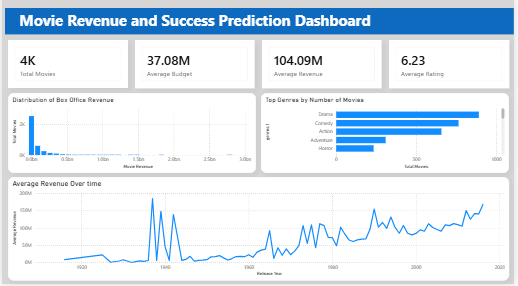

The dashboard page shown, as its layout file describes it:
{"tool":"powerbi","page":{"name":"Overview","canvas":[1280,720],"ordinal":0},"visuals":[{"type":"cardVisual","fields":{"Data":["tmdb_processed.Total Movies"]},"box":[15,110,300,120],"z":2000},{"type":"cardVisual","fields":{"Data":["tmdb_processed.Average Rating"]},"box":[967.6,109.2,300.7,120.9],"z":3000},{"type":"cardVisual","fields":{"Data":["tmdb_processed.Average Budget"]},"box":[332.6,109.2,299,120.9],"z":4000},{"type":"cardVisual","fields":{"Data":["tmdb_processed.Average Revenue"]},"box":[650.1,109.2,299,120.9],"z":5000},{"type":"textbox","box":[23,503,493,87],"z":6000},{"type":"clusteredColumnChart","title":"Distribution of Box Office Revenue ","fields":{"Category":["tmdb_processed.revenue (bins)"],"Y":["tmdb_processed.Total Movies"]},"box":[14.9,242.5,620,199.9],"z":7000},{"type":"clusteredBarChart","title":"Top Genres by Number of Movies","fields":{"Category":["tmdb_processed.genres.1"],"Y":["tmdb_processed.Total Movies"]},"box":[647.7,241.9,619.8,199.9],"z":8000},{"type":"lineChart","title":"Average Revenue Over time","fields":{"Category":["tmdb_processed.Release Year"],"Y":["tmdb_processed.Average Revenue"]},"box":[15.1,451.9,1253.1,258.7],"z":9000},{"type":"textbox","box":[8,30,1272,66],"z":10000}]}

Visuals, with their boxes in screenshot pixels (x1, y1, x2, y2), scaled from the page's 1280x720 canvas onto the 518x286 screenshot:
cardVisual - tmdb_processed.Total Movies: 6,44,127,91
cardVisual - tmdb_processed.Average Rating: 392,43,513,91
cardVisual - tmdb_processed.Average Budget: 135,43,256,91
cardVisual - tmdb_processed.Average Revenue: 263,43,384,91
textbox: 9,200,209,234
"Distribution of Box Office Revenue " clusteredColumnChart: 6,96,257,176
"Top Genres by Number of Movies" clusteredBarChart: 262,96,513,175
"Average Revenue Over time" lineChart: 6,180,513,282
textbox: 3,12,517,38
